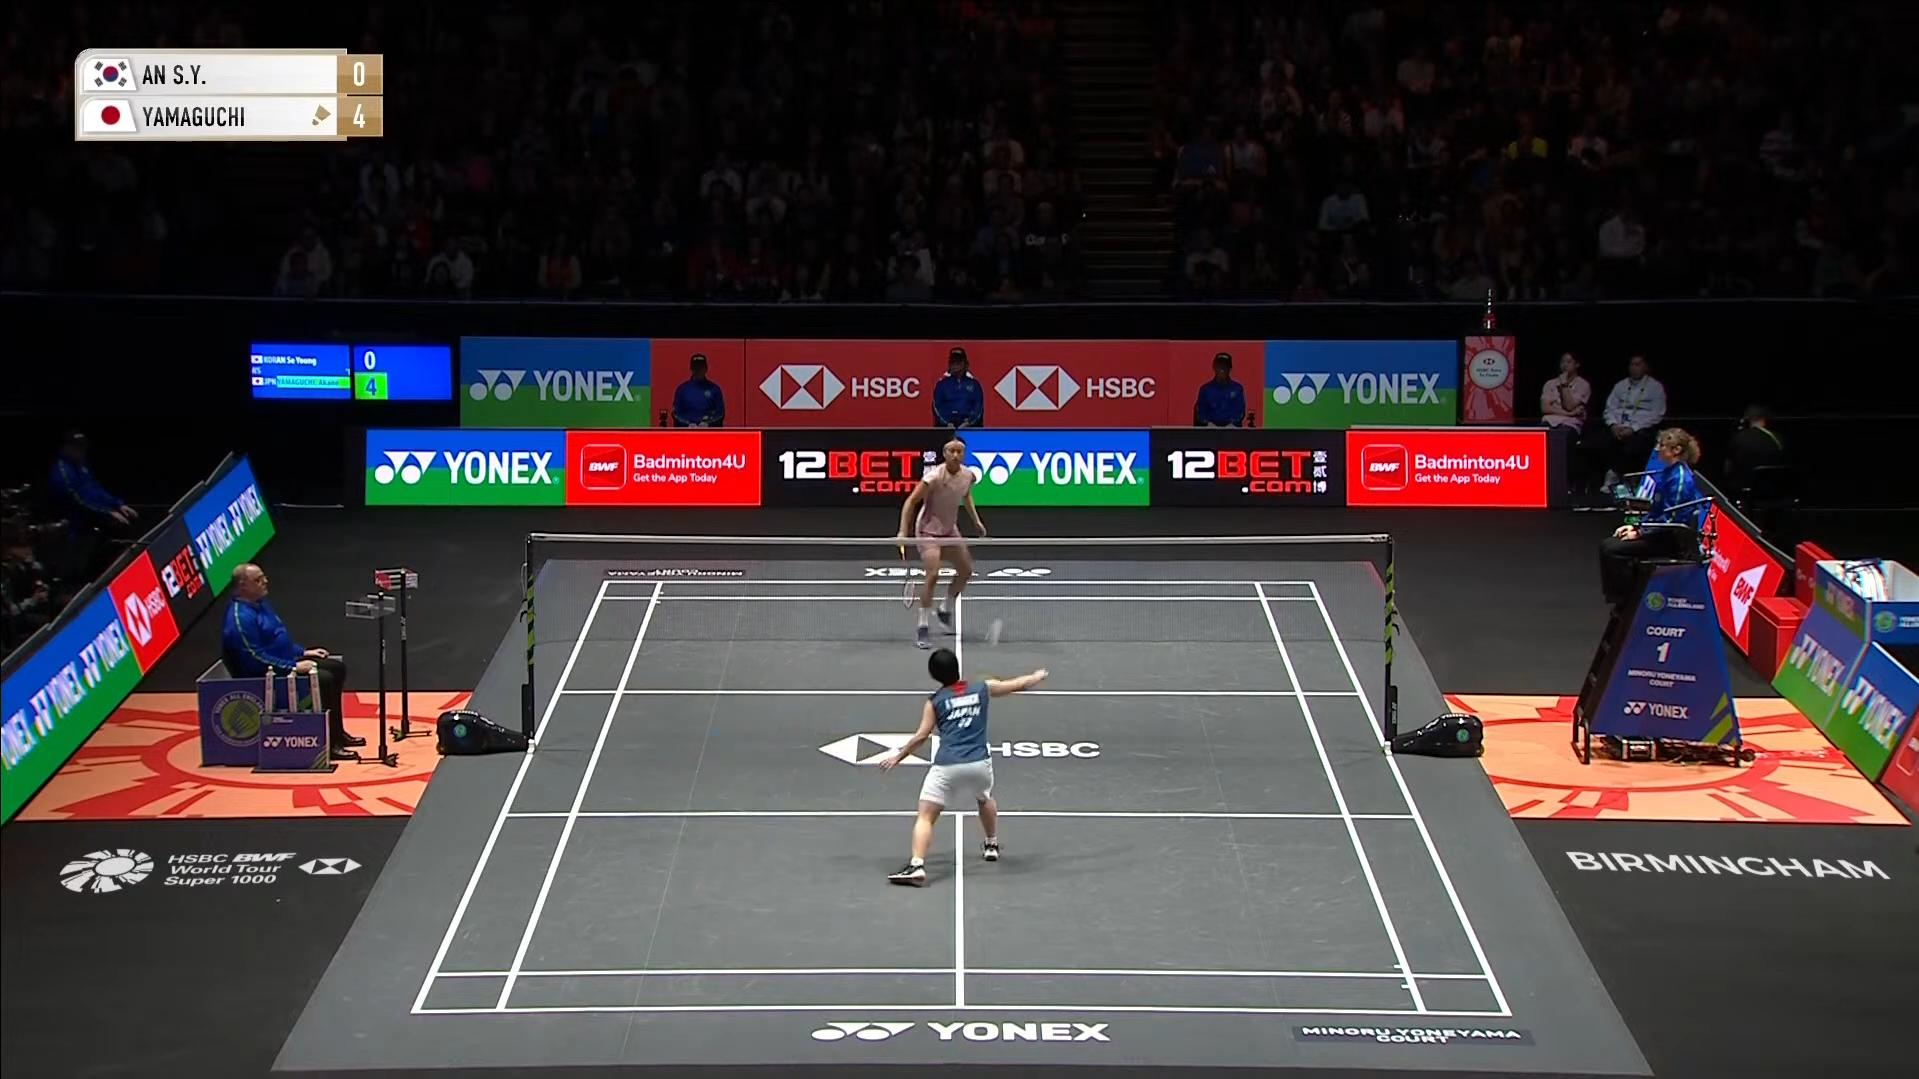shuttle: (978, 610, 1016, 653)
